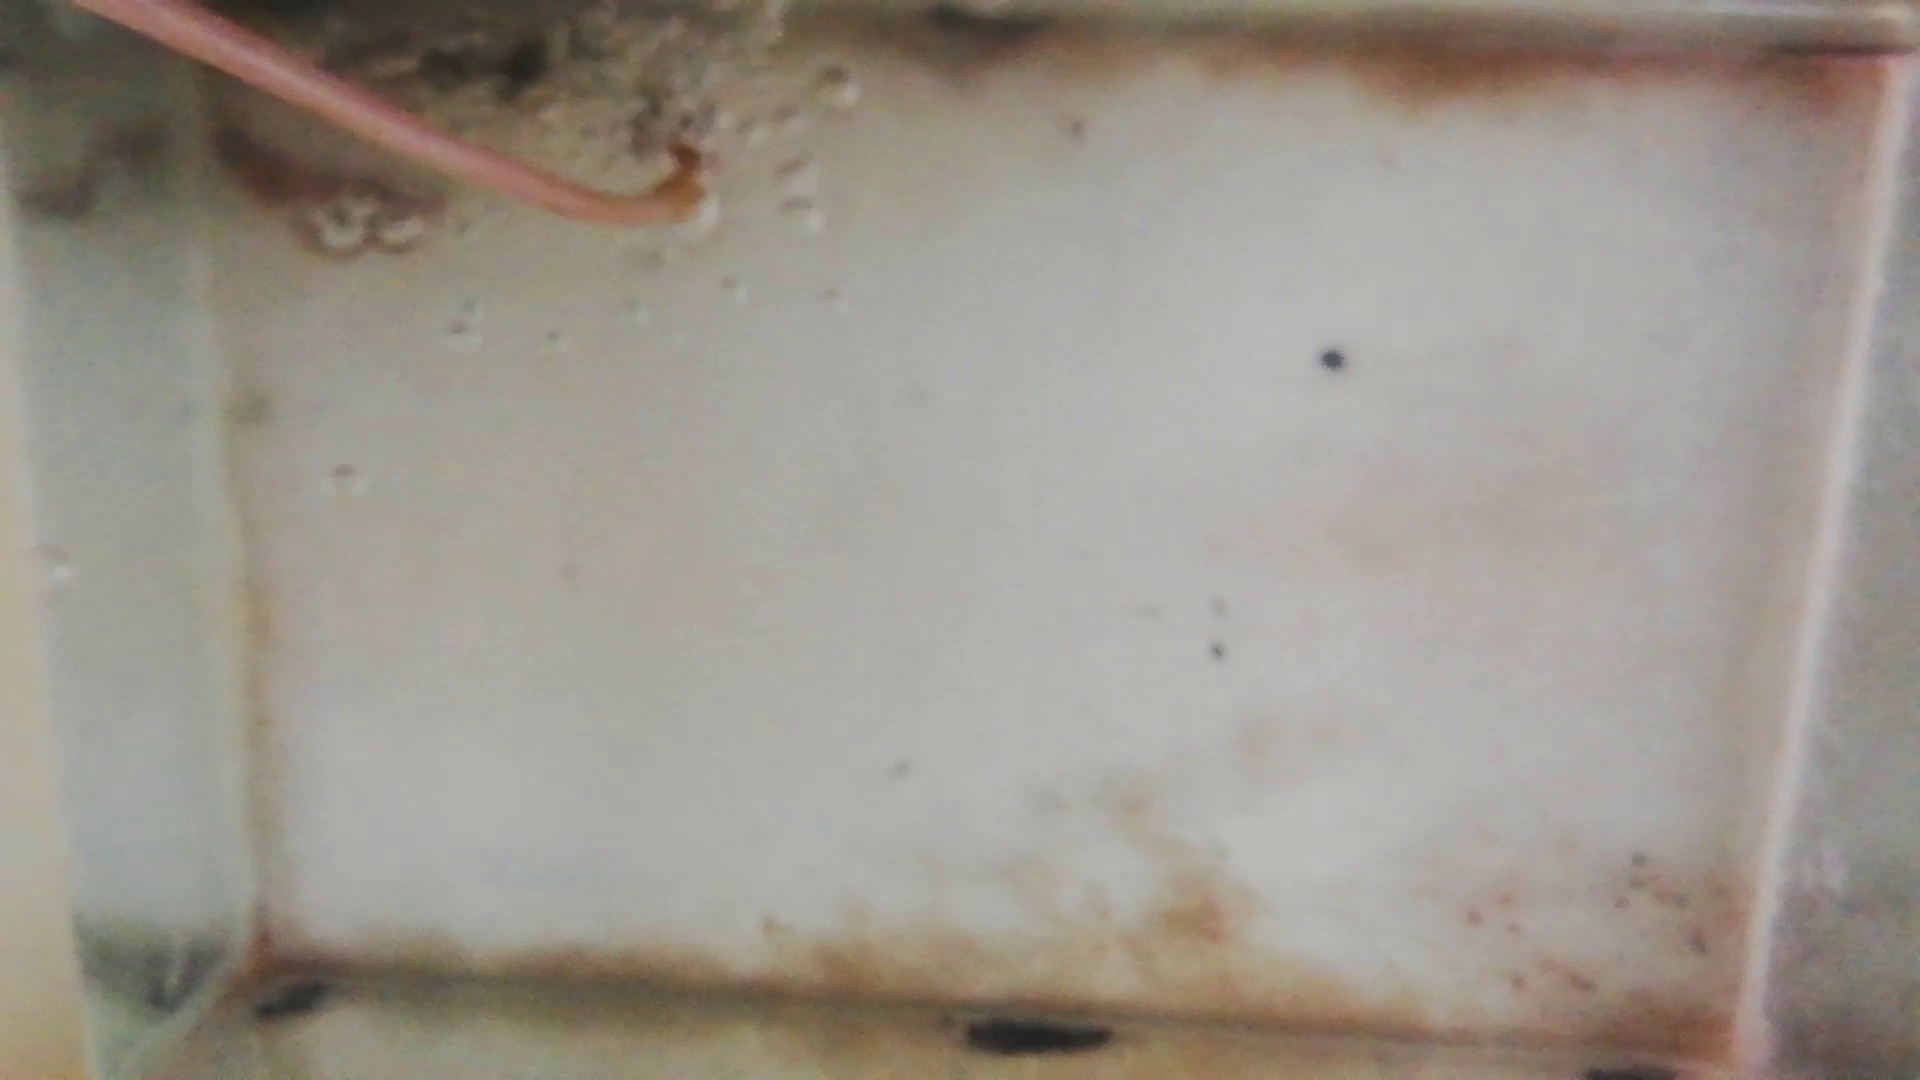fish: (204, 127, 436, 232), (368, 47, 560, 105)
